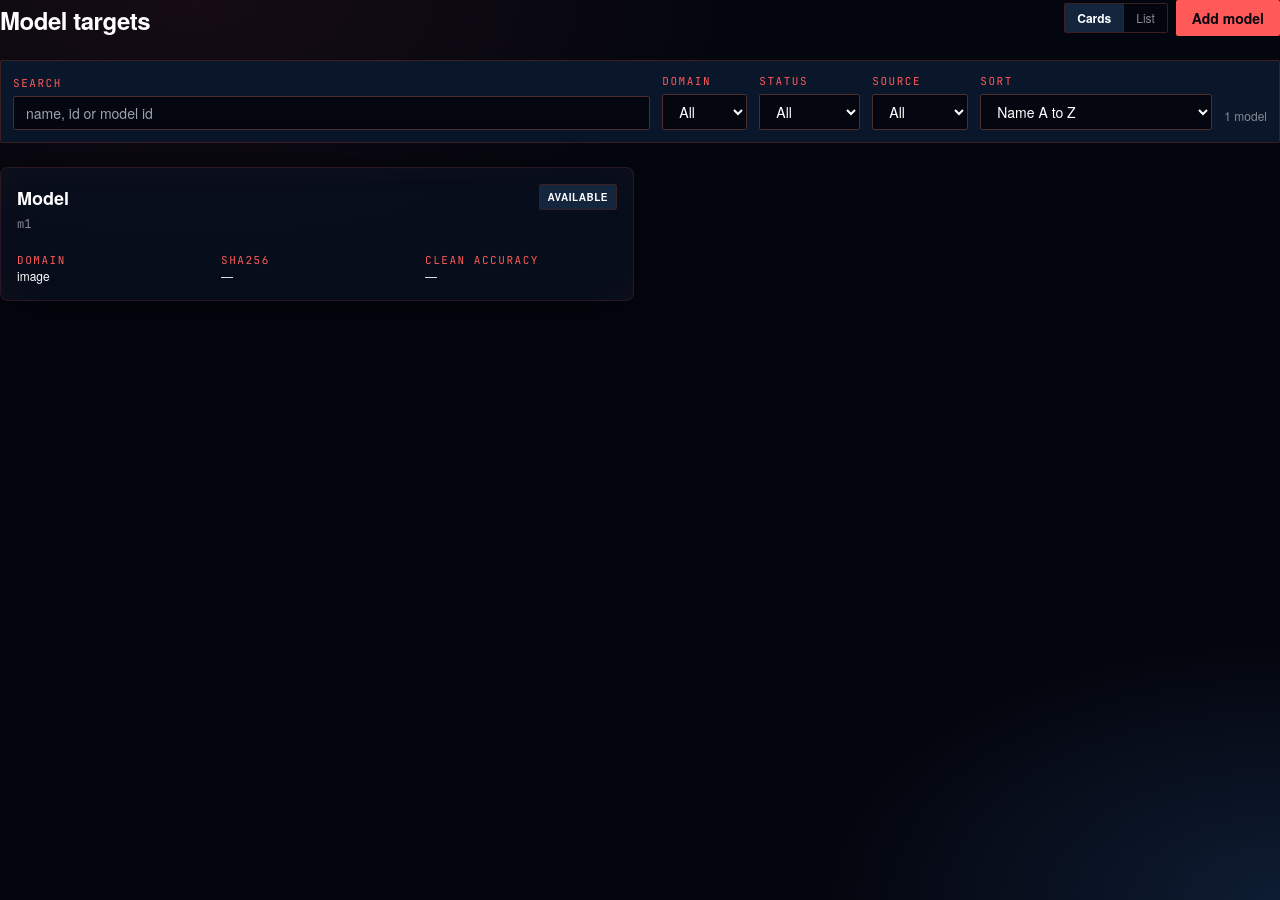
/models › renders availability state and disables the endpoint connector
This screenshot has width=1280, height=900.
Expected: the text "available" is shown, [538,184,617,210]
Click the button "Add model" at coordinates (1228, 18), box [1176,0,1279,36]
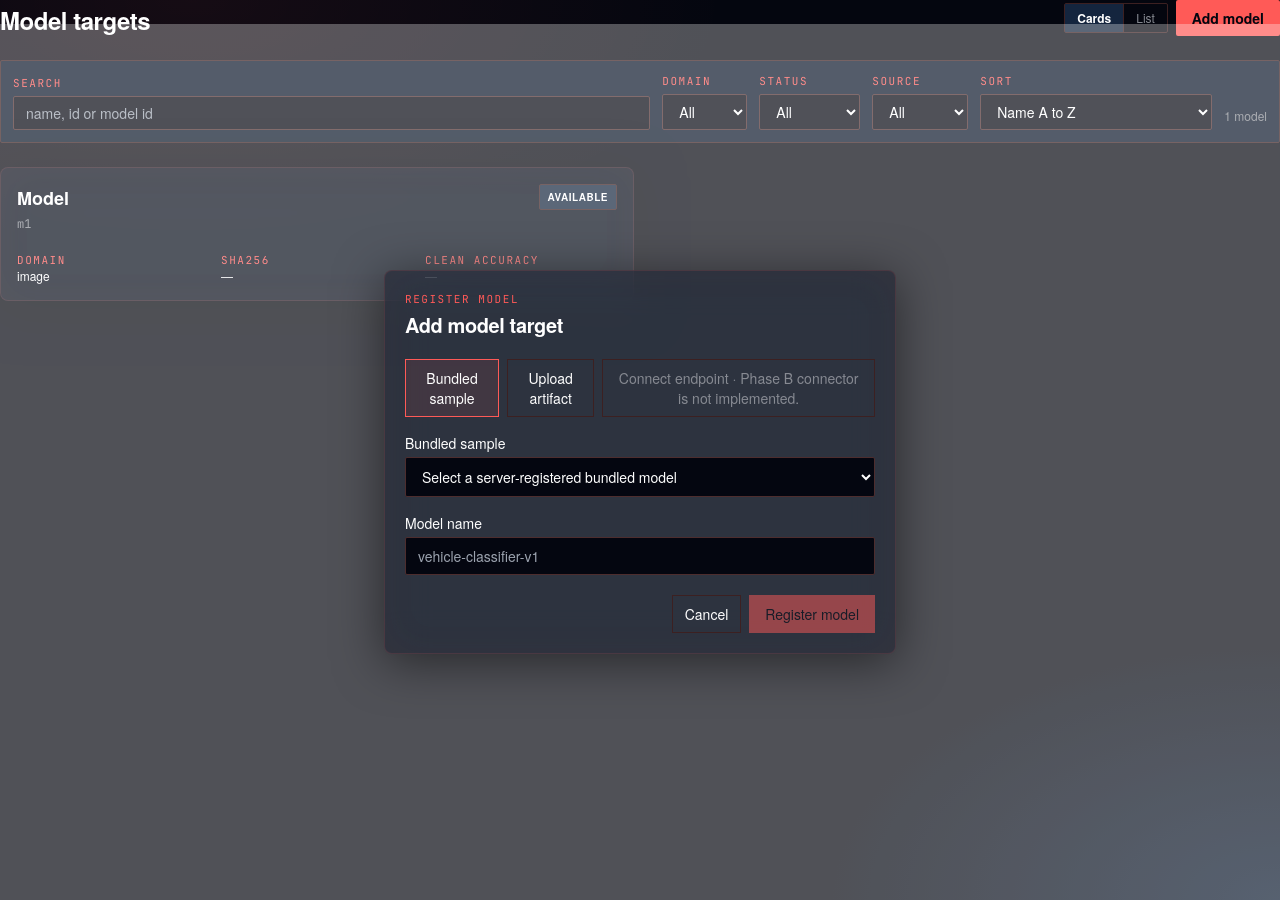
Now the button "Connect endpoint · Phase B connector is not implemented." is disabled, box [602,359,875,417]
